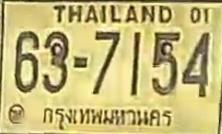1: (130, 31, 140, 95)
3: (42, 30, 68, 92)
4: (182, 31, 210, 96)
5: (151, 31, 180, 95)
6: (14, 30, 39, 92)
7: (92, 30, 119, 94)
BKK: (39, 105, 175, 132)
